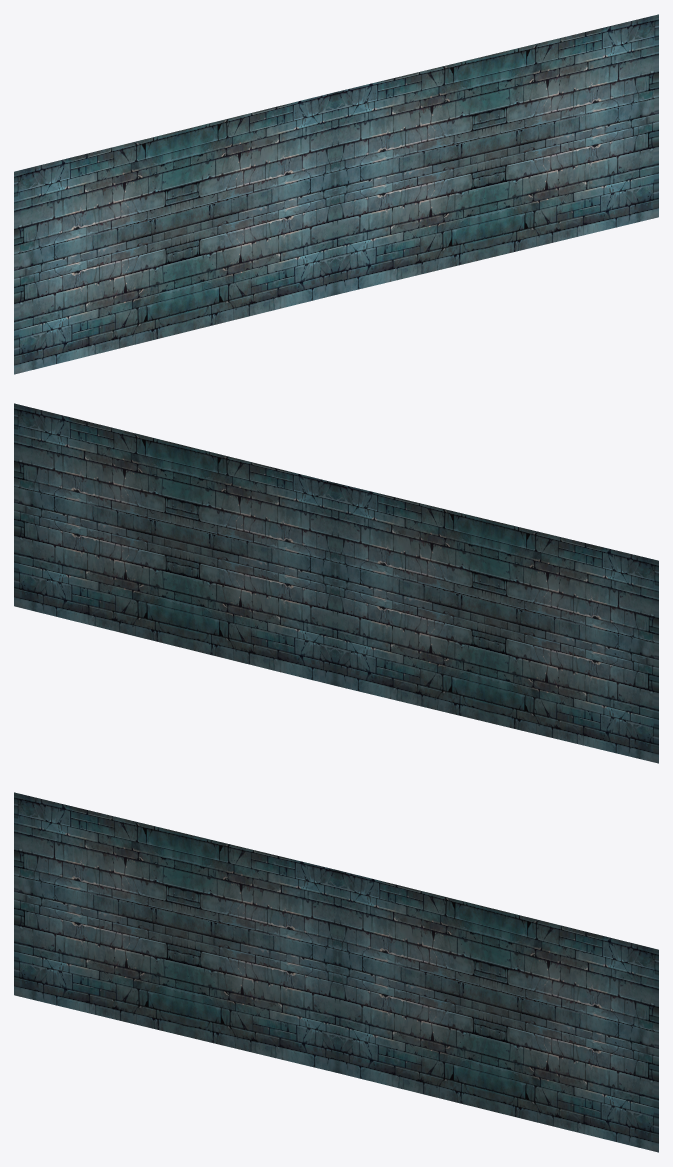
Rendered from MuroFondo.fbx.
3 renders of one model, top to bottom at view 1: azimuth 30°, elevation 25°; view 2: azimuth 150°, elevation 25°; view 3: azimuth 330°, elevation 25°, orthographic.
Visible parts, largest first — view 1: Fondo.001; view 2: Fondo.001; view 3: Fondo.001.
Boxes of the visible parts, x1,y1,x2,y2 form: Fondo.001: [14, 14, 658, 374]; Fondo.001: [14, 403, 658, 763]; Fondo.001: [14, 792, 658, 1152].
Bounding box in the file's own units: 5736 × 1725 × 17.96.
Materials: 1 (1 with a texture image).
